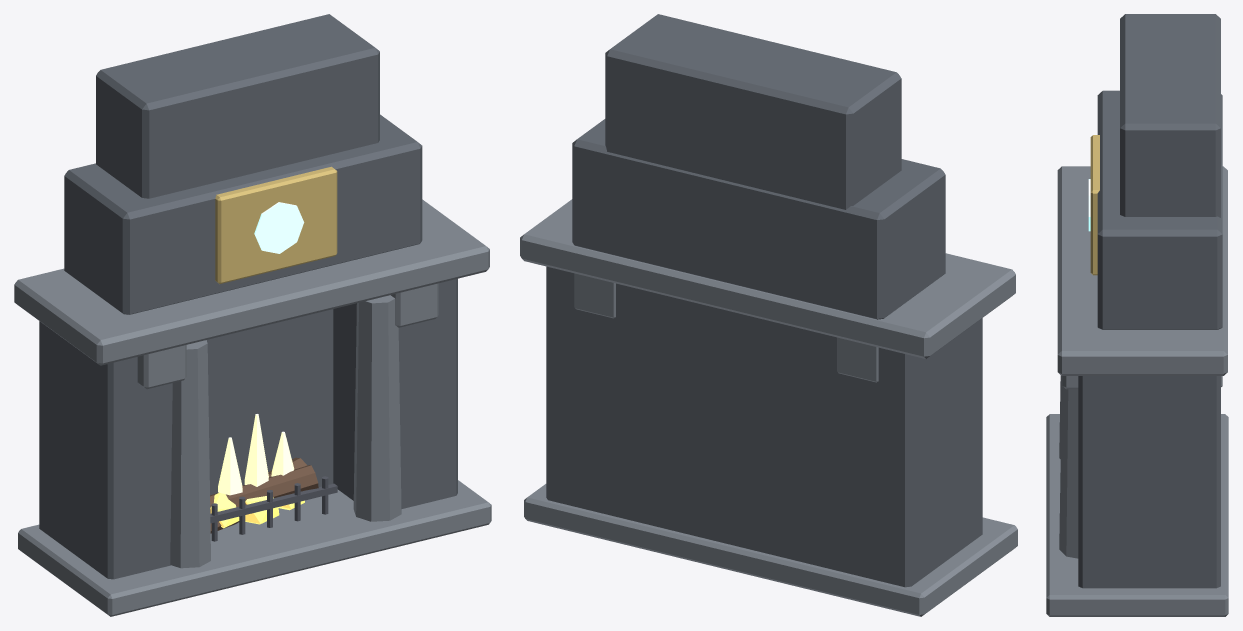
The model's file is castle_fireplace.glb.
3 views of the same model, side by side, from view 1: azimuth 30°, elevation 25°; view 2: azimuth 150°, elevation 25°; view 3: azimuth 270°, elevation 25° (orthographic). The views are drawn at different scales.
Visible parts, largest first — view 1: Castle_Fireplace; view 2: Castle_Fireplace; view 3: Castle_Fireplace.
Boxes of the visible parts, x1,y1,x2,y2 form: Castle_Fireplace: (14, 14, 491, 616); Castle_Fireplace: (520, 14, 1017, 616); Castle_Fireplace: (1046, 14, 1228, 616).
Size of the model in its own units: 2.56 by 2.9 by 1.05.
